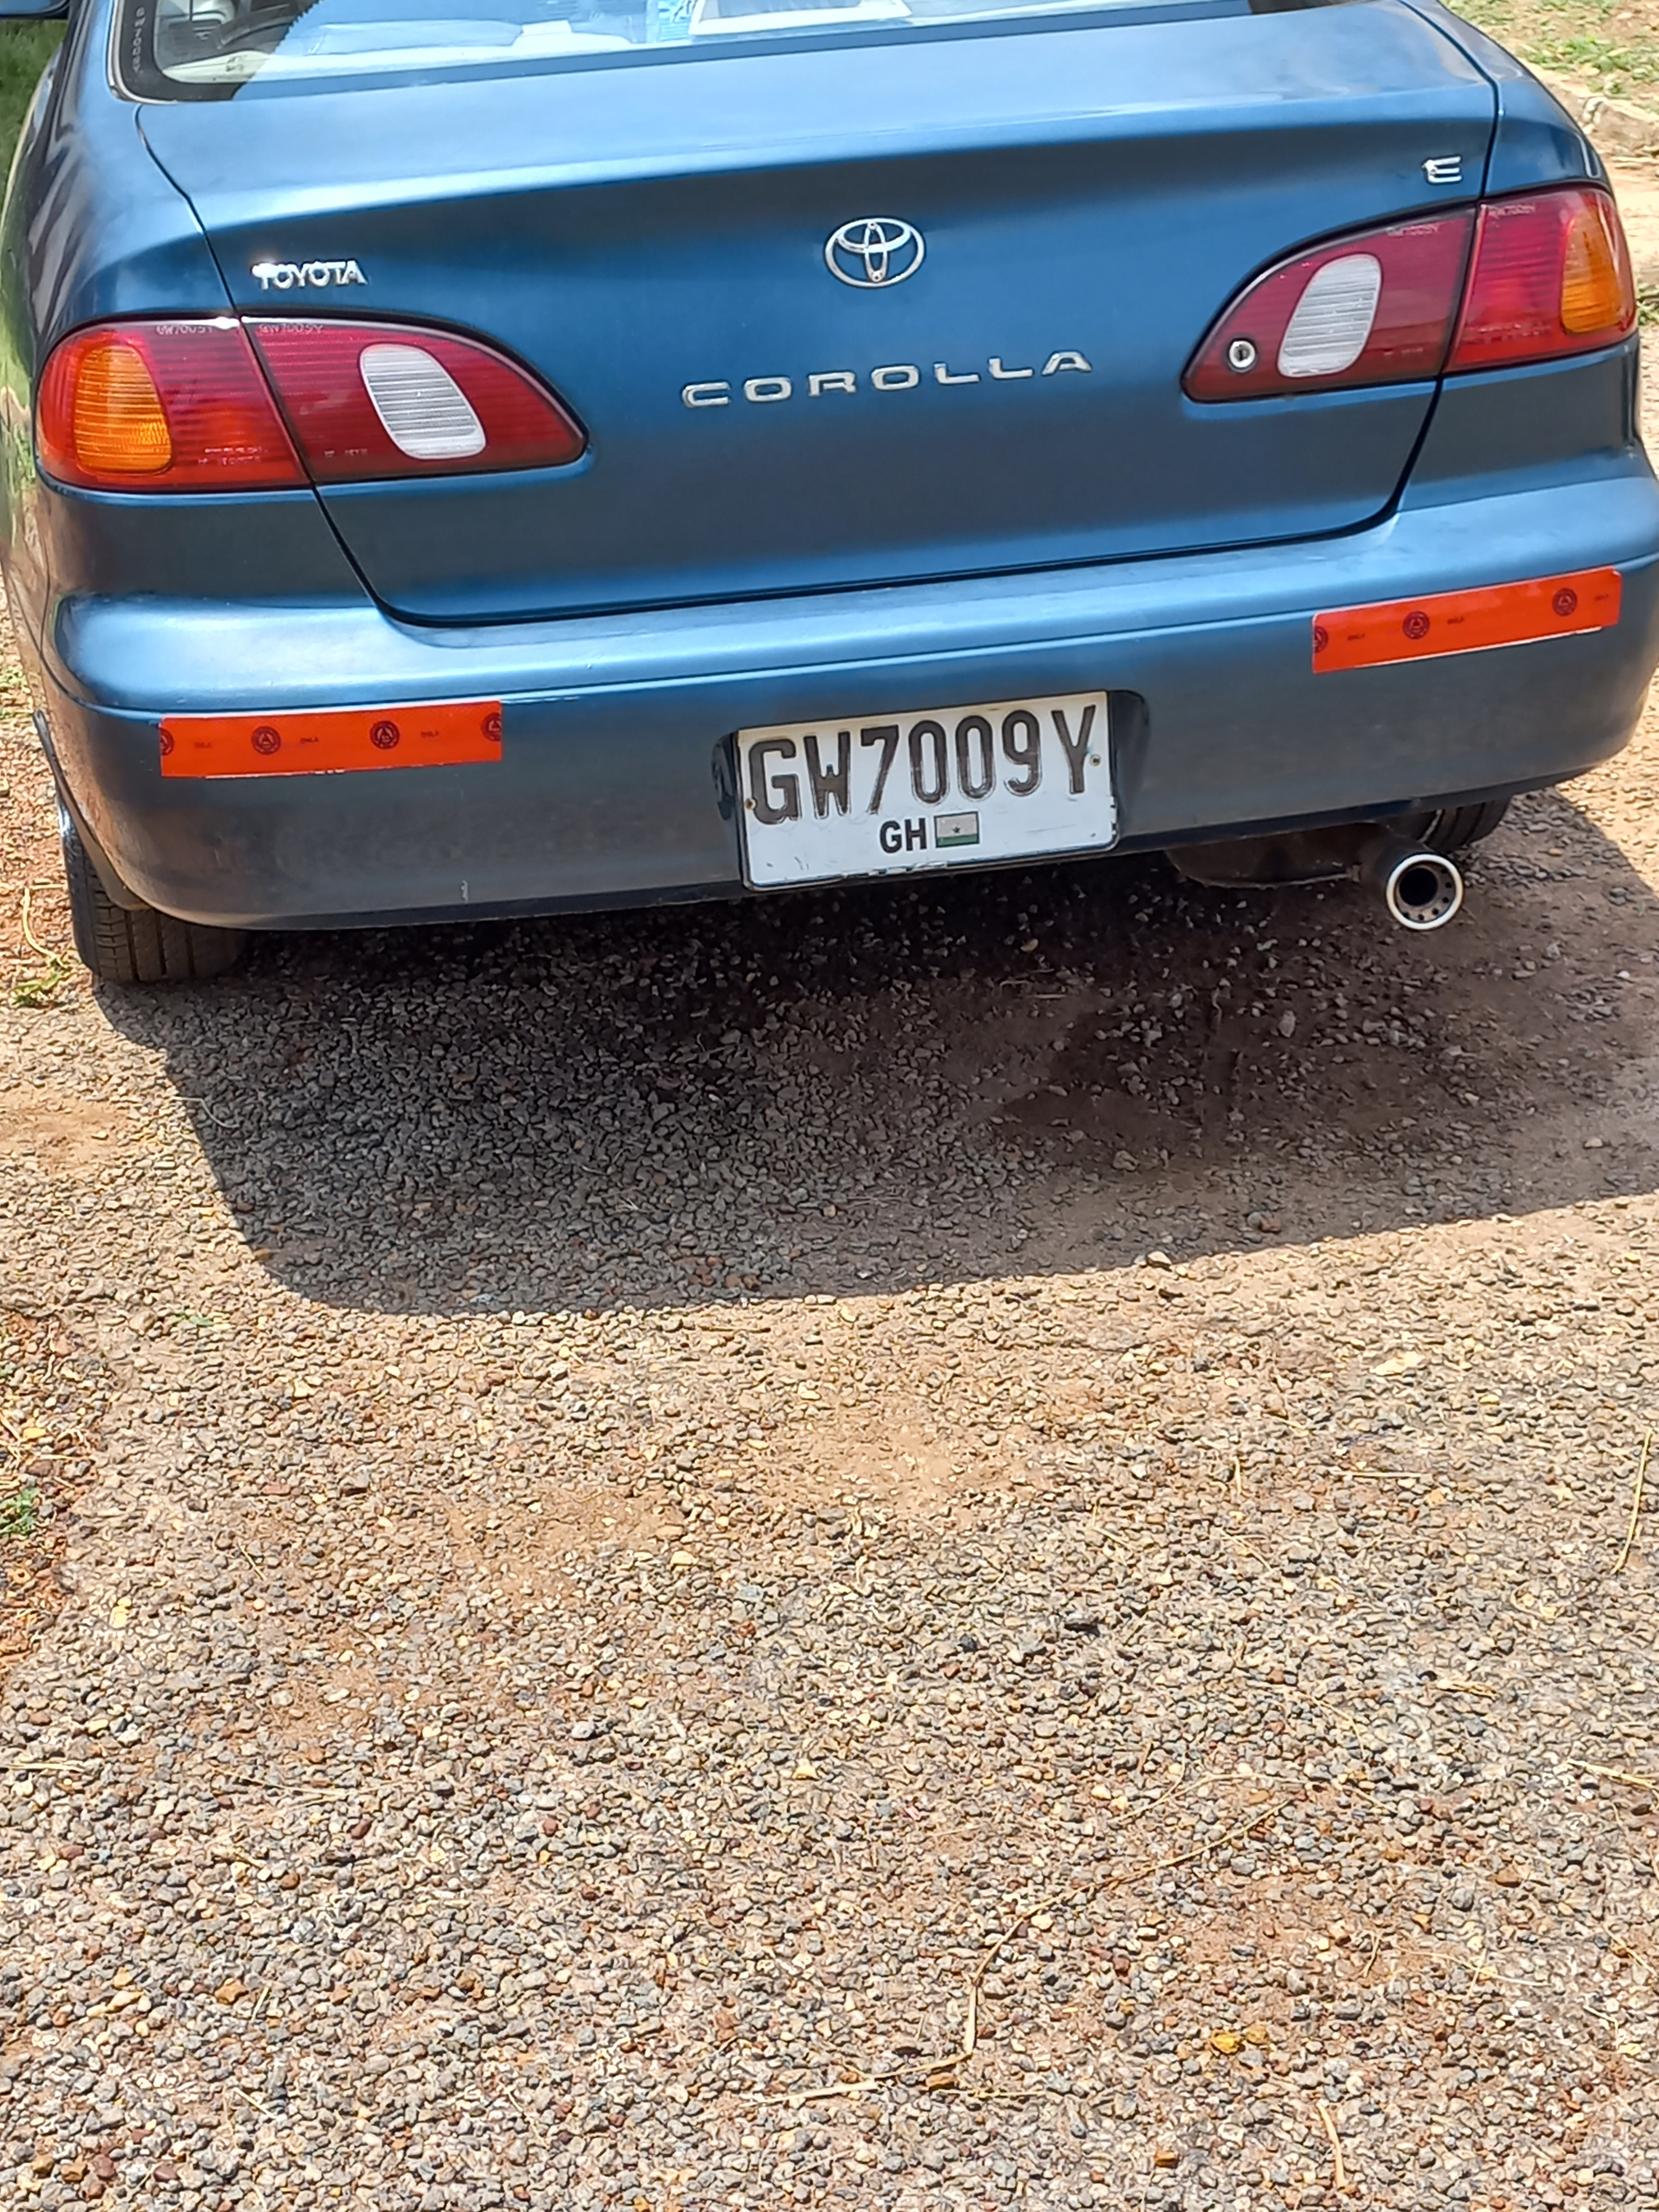number_plates: (744, 687, 1104, 895)
